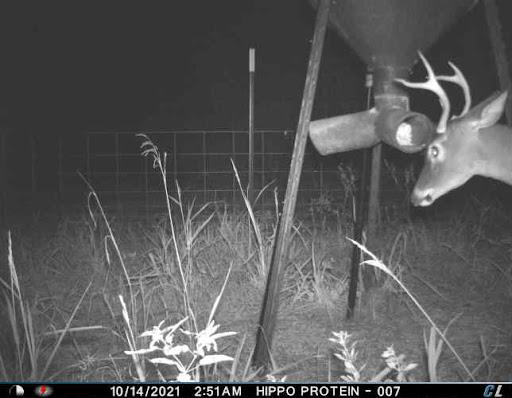Deer: (392, 43, 512, 219)
